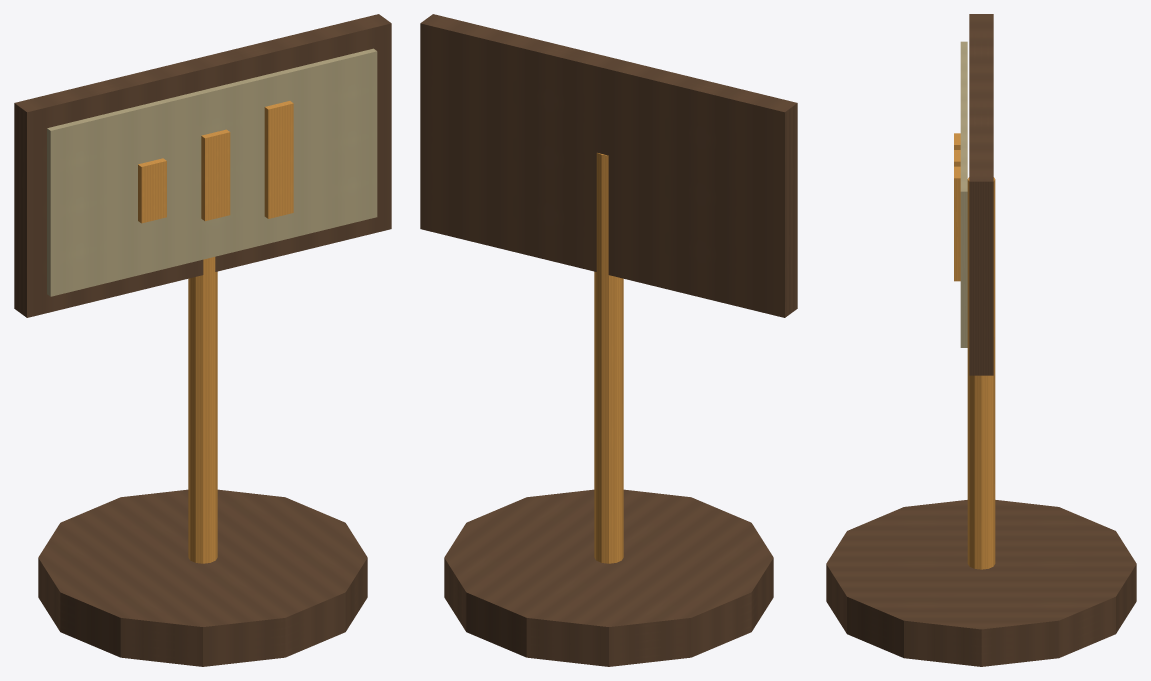
The model's file is atlas100-s012-a11.glb.
The picture shows the model from 3 angles, left to right: view 1: azimuth 30°, elevation 25°; view 2: azimuth 150°, elevation 25°; view 3: azimuth 270°, elevation 25°; orthographic projection. The views are drawn at different scales.
Visible parts, largest first — view 1: atlas100-s012-a11:part-003, atlas100-s012-a11:part-000, atlas100-s012-a11:part-002, atlas100-s012-a11:part-001, atlas100-s012-a11:part-006, atlas100-s012-a11:part-005, atlas100-s012-a11:part-004; view 2: atlas100-s012-a11:part-002, atlas100-s012-a11:part-000, atlas100-s012-a11:part-001; view 3: atlas100-s012-a11:part-000, atlas100-s012-a11:part-002, atlas100-s012-a11:part-001, atlas100-s012-a11:part-003, atlas100-s012-a11:part-006.
Part boxes in pixels (x1=…): atlas100-s012-a11:part-003: x1=47, y1=48, x2=377, y2=296; atlas100-s012-a11:part-000: x1=38, y1=489, x2=367, y2=666; atlas100-s012-a11:part-002: x1=14, y1=14, x2=391, y2=317; atlas100-s012-a11:part-001: x1=188, y1=257, x2=217, y2=563; atlas100-s012-a11:part-006: x1=264, y1=101, x2=293, y2=218; atlas100-s012-a11:part-005: x1=201, y1=129, x2=230, y2=221; atlas100-s012-a11:part-004: x1=138, y1=158, x2=166, y2=223; atlas100-s012-a11:part-002: x1=420, y1=14, x2=797, y2=317; atlas100-s012-a11:part-000: x1=444, y1=489, x2=773, y2=666; atlas100-s012-a11:part-001: x1=594, y1=153, x2=623, y2=563; atlas100-s012-a11:part-000: x1=826, y1=500, x2=1136, y2=666; atlas100-s012-a11:part-002: x1=969, y1=14, x2=993, y2=375; atlas100-s012-a11:part-001: x1=967, y1=177, x2=995, y2=569; atlas100-s012-a11:part-003: x1=960, y1=41, x2=967, y2=347; atlas100-s012-a11:part-006: x1=954, y1=166, x2=960, y2=281.
Bounding box in the file's own units: 1.15 × 1.61 × 0.9.
3 materials, 3 textured.
